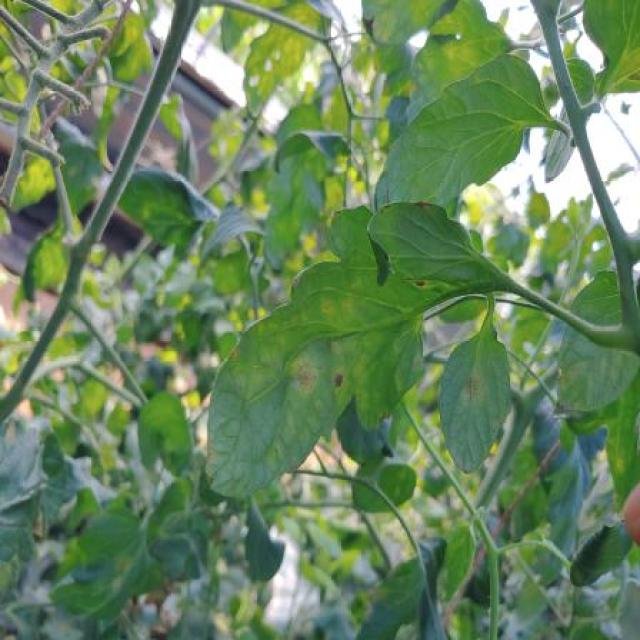Healthy: (386, 51, 546, 208)
Leaf Mold: (202, 199, 474, 501), (440, 330, 510, 477)
